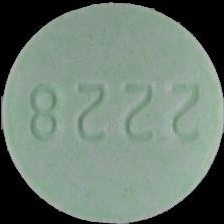63739-103: (0, 0, 224, 224)
